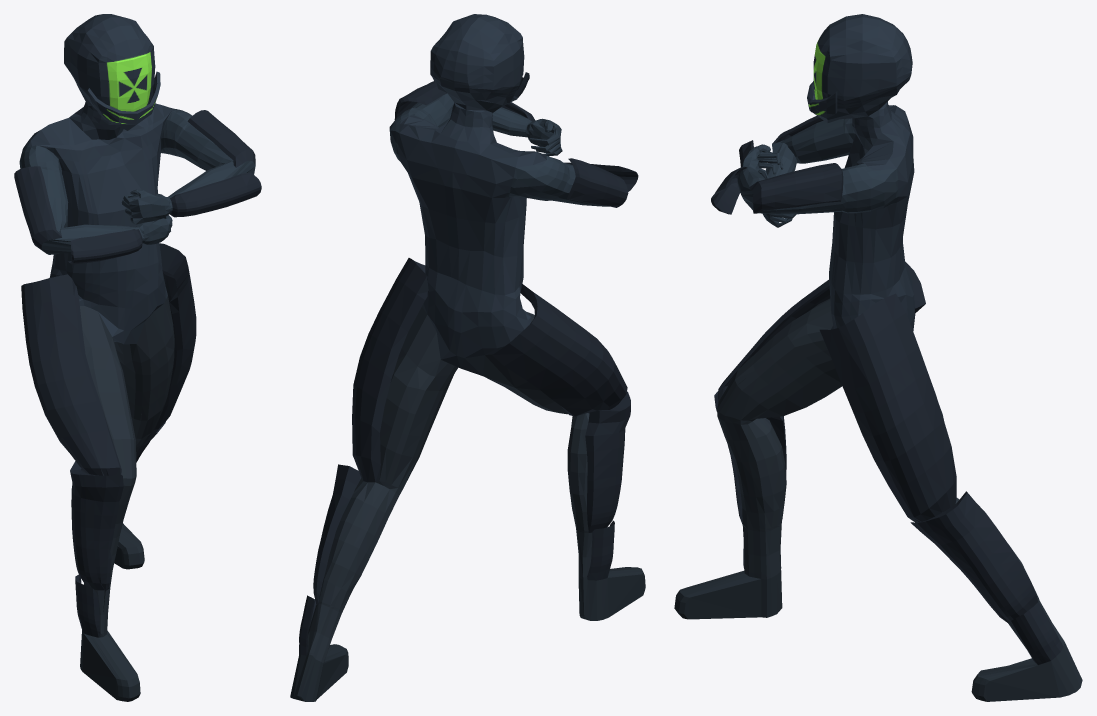
File: Bastion_WF_000026.obj
3 renders of one model, left to right at view 1: azimuth 30°, elevation 25°; view 2: azimuth 150°, elevation 25°; view 3: azimuth 270°, elevation 25°, orthographic. The views are drawn at different scales.
Parts seen in each view (by area): view 1: Cube.002; view 2: Cube.002; view 3: Cube.002.
Boxes of the visible parts, box(x1,y1,x2,y2) form: Cube.002: box(14, 14, 261, 701); Cube.002: box(290, 14, 645, 701); Cube.002: box(674, 14, 1082, 701).
Bounding box in the file's own units: 1.31 × 3.61 × 2.09.
